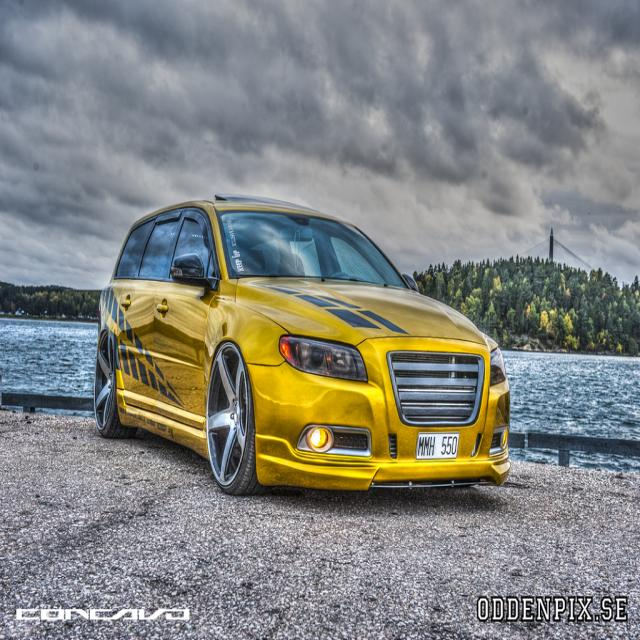car: (86, 189, 505, 498)
